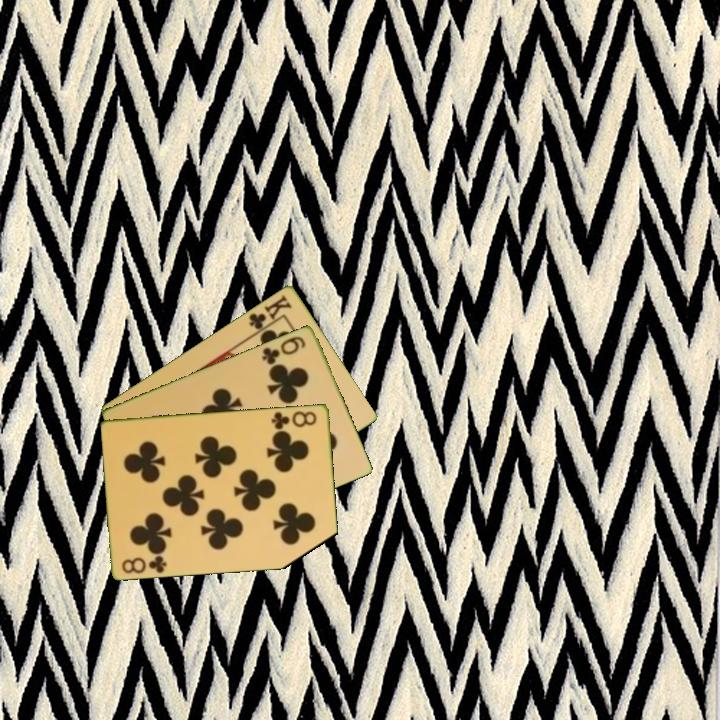6c: (258, 332, 309, 367)
8c: (268, 407, 320, 432), (119, 552, 170, 576)
Kc: (245, 291, 295, 337)
